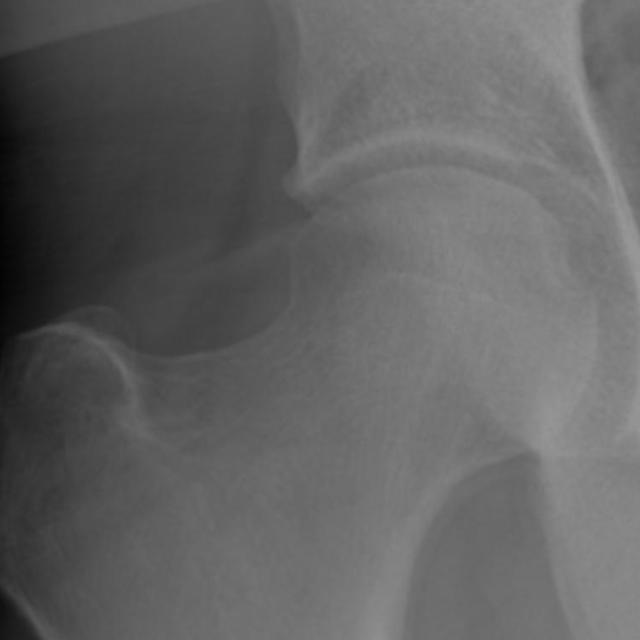Fitted_femural_head: (327, 163, 432, 327)
